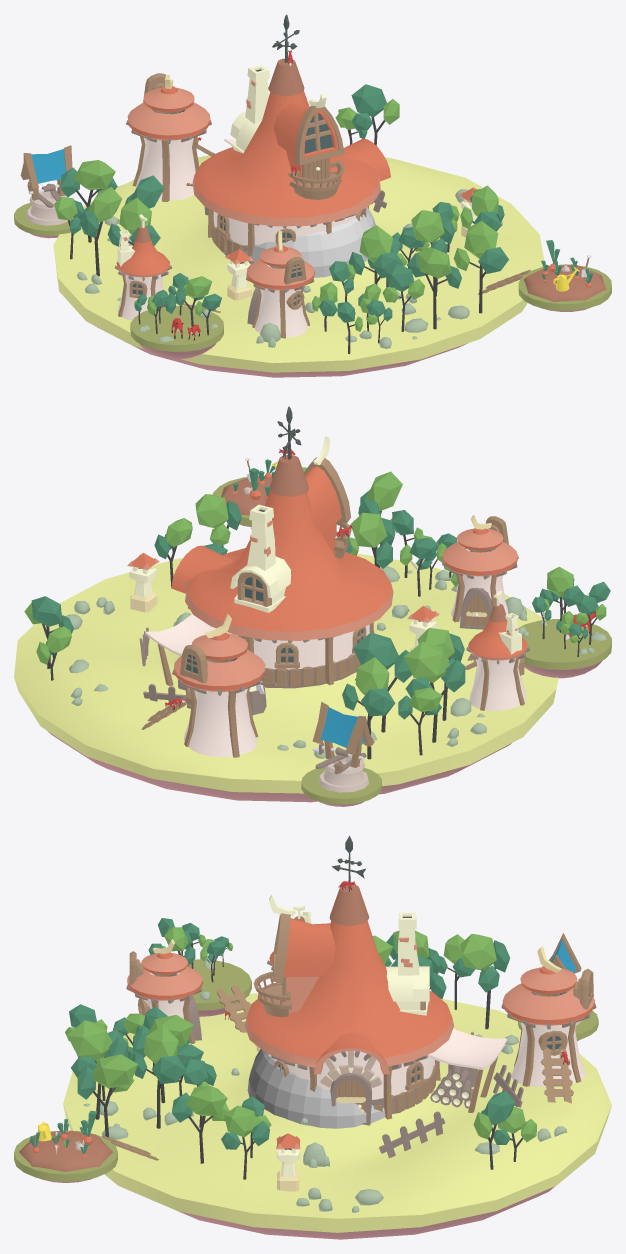
The model's file is island2.glb.
3 views of the same model, one above another, from view 1: azimuth 30°, elevation 25°; view 2: azimuth 150°, elevation 25°; view 3: azimuth 270°, elevation 25° (orthographic). The views are drawn at different scales.
Parts seen in each view (by area): view 1: pCube11_rocks1_0.001, Sphere, polySurface946_tree2_0.005, polySurface946_tree2_0.002, polySurface946_tree2_0.003, polySurface946_tree2_0.004, polySurface947_tree1_0.004; view 2: pCube11_rocks1_0.001, polySurface946_tree2_0.003, polySurface946_tree2_0.004; view 3: pCube11_rocks1_0.001, Sphere, polySurface946_tree2_0.004, polySurface946_tree2_0.005, polySurface946_tree2_0.002, polySurface947_tree1_0.002, polySurface946_tree2_0.003.
Boxes of the visible parts, <box> form: pCube11_rocks1_0.001: <box>14,14,611,377</box>; Sphere: <box>225,207,375,277</box>; polySurface946_tree2_0.005: <box>464,221,498,258</box>; polySurface946_tree2_0.002: <box>411,210,444,242</box>; polySurface946_tree2_0.003: <box>359,225,393,262</box>; polySurface946_tree2_0.004: <box>417,247,451,278</box>; polySurface947_tree1_0.004: <box>478,247,508,273</box>; pCube11_rocks1_0.001: <box>14,406,611,806</box>; polySurface946_tree2_0.003: <box>350,512,387,547</box>; polySurface946_tree2_0.004: <box>366,471,402,510</box>; pCube11_rocks1_0.001: <box>14,835,611,1239</box>; Sphere: <box>247,1049,385,1128</box>; polySurface946_tree2_0.004: <box>67,1020,112,1060</box>; polySurface946_tree2_0.005: <box>92,1054,138,1088</box>; polySurface946_tree2_0.002: <box>144,1025,178,1064</box>; polySurface947_tree1_0.002: <box>151,1055,186,1083</box>; polySurface946_tree2_0.003: <box>149,1015,193,1046</box>.
Bounding box in the file's own units: 54.95 × 36.65 × 58.8.
1 material, 1 textured.
